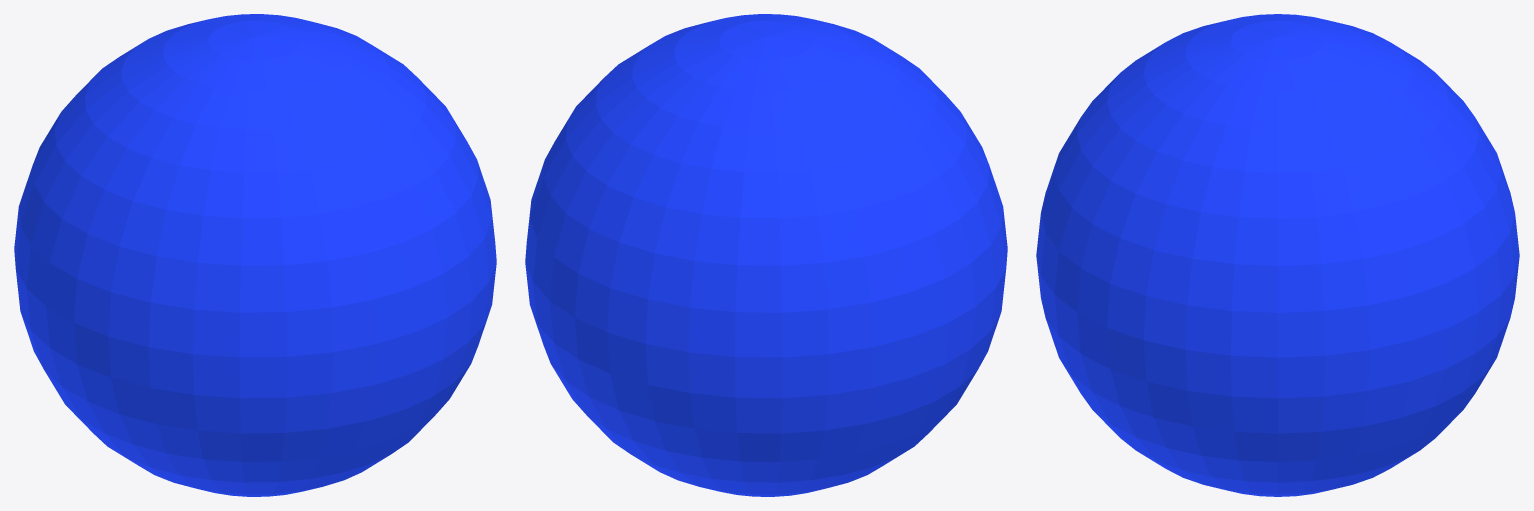
File: Escudo_icon.fbx
3 views of the same model, side by side, from view 1: azimuth 30°, elevation 25°; view 2: azimuth 150°, elevation 25°; view 3: azimuth 270°, elevation 25° (orthographic).
Visible parts, largest first — view 1: Sphere.002; view 2: Sphere.002; view 3: Sphere.002.
Boxes of the visible parts, x1,y1,x2,y2 form: Sphere.002: (14,14,496,496); Sphere.002: (525,14,1007,496); Sphere.002: (1036,14,1519,496).
Bounding box in the file's own units: 200 × 200 × 200.
